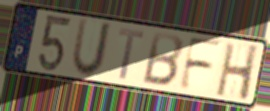5: (37, 12, 73, 72)
B: (140, 30, 185, 89)
F: (176, 34, 225, 93)
H: (214, 41, 261, 103)
T: (117, 26, 147, 82)
U: (69, 16, 115, 80)
